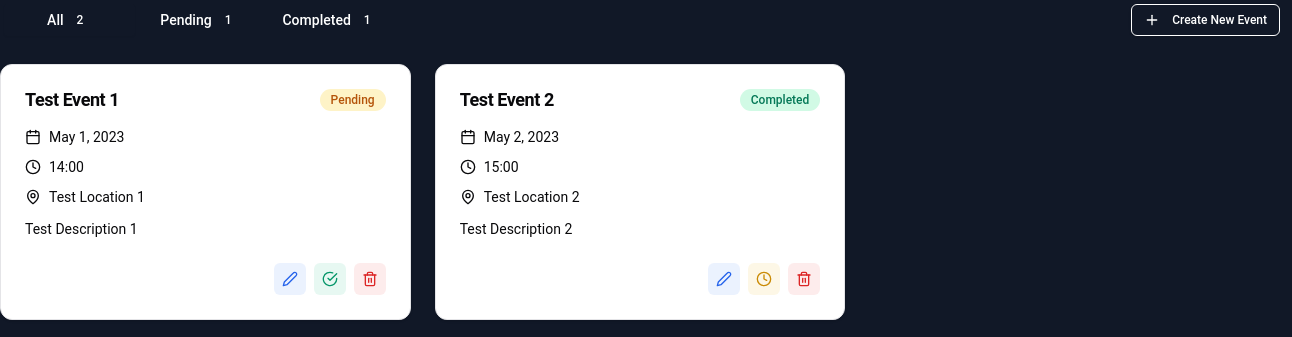
Test: EventList › filters events correctly
Expected: the heading "Test Event 1" is shown, [25,91,119,109]
Expected: the heading "Test Event 2" is shown, [460,91,554,109]
# Test Pending filter
Click the tab "Pending 1".
click(200, 20)  # box [135,4,265,36]
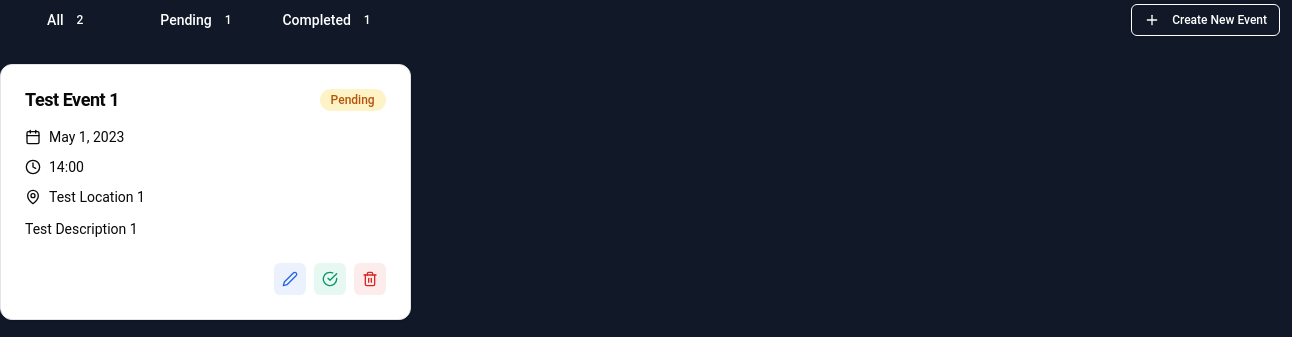
Expected: the heading "Test Event 1" is shown, [25,91,119,109]
Expected: the heading "Test Event 2" is gone
# Test Completed filter
Click the tab "Completed 1".
click(331, 20)  # box [265,4,396,36]
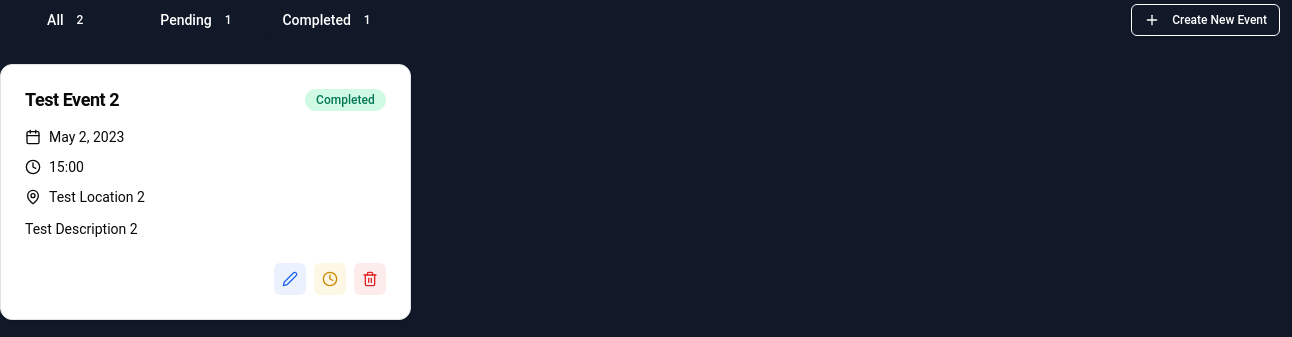
Expected: the heading "Test Event 1" is gone
Expected: the heading "Test Event 2" is shown, [25,91,119,109]
# Test returning to All filter
Click the tab "All 2".
click(69, 20)  # box [4,4,135,36]
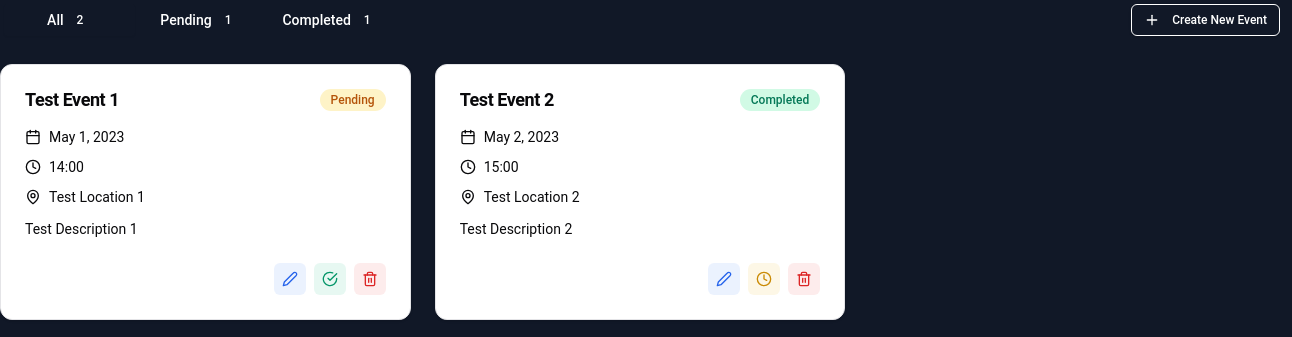
Expected: the heading "Test Event 2" is shown, [460,91,554,109]
Expected: the heading "Test Event 1" is shown, [25,91,119,109]
